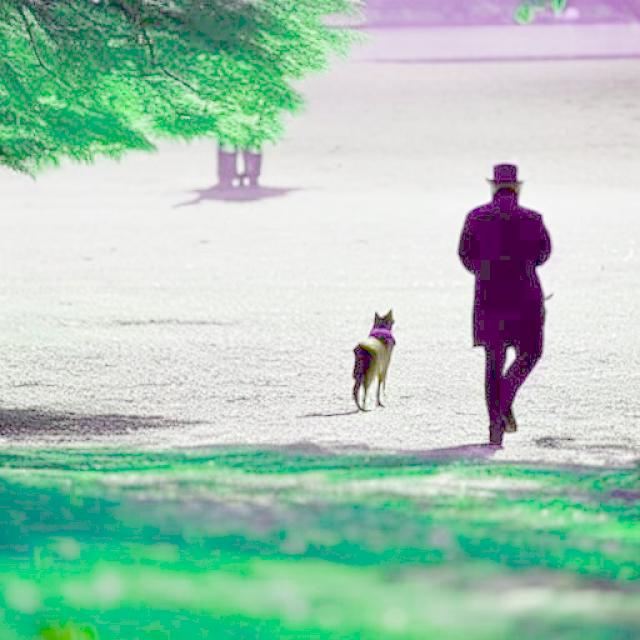Unleashed_Dog: (350, 307, 543, 414)
